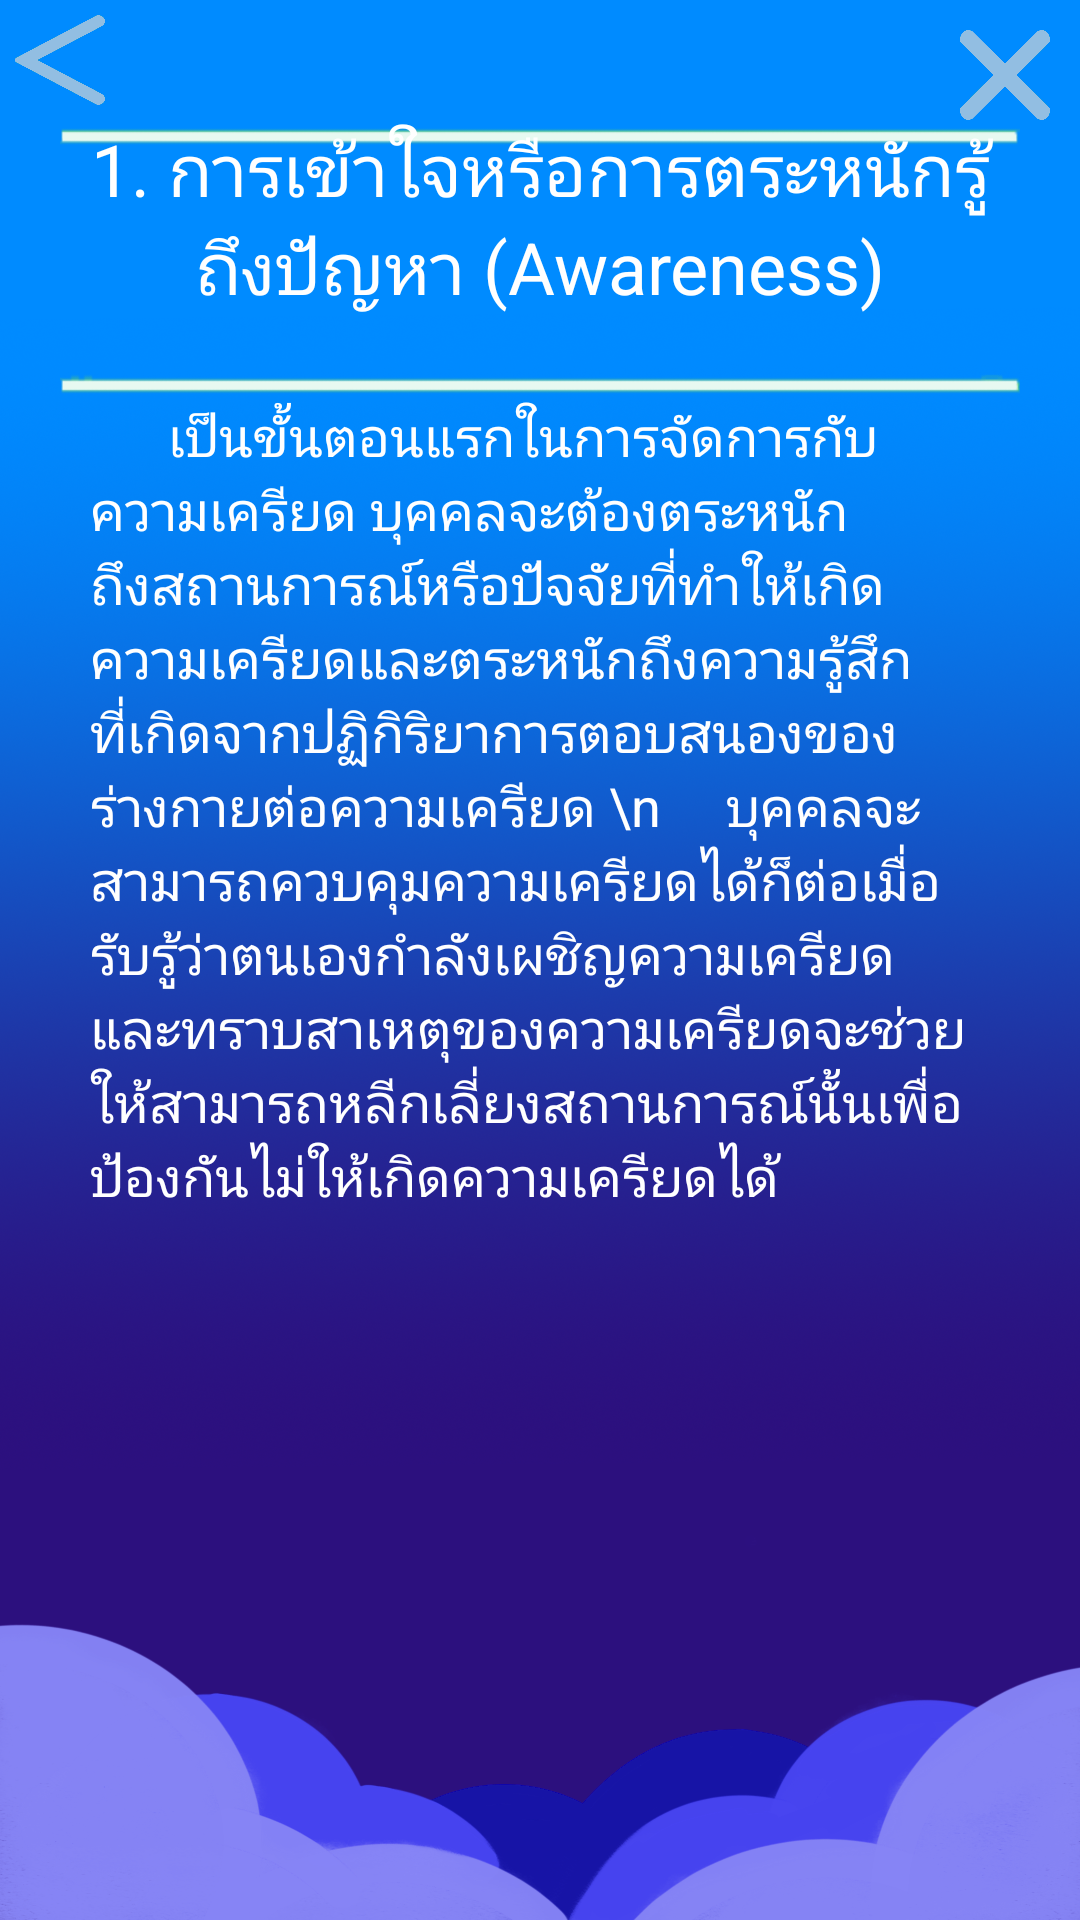

Named icons in this screenshot (1080px x 1920px) and their centers, [x,y]:
backbut: [60,60]
exit: [1005,75]
